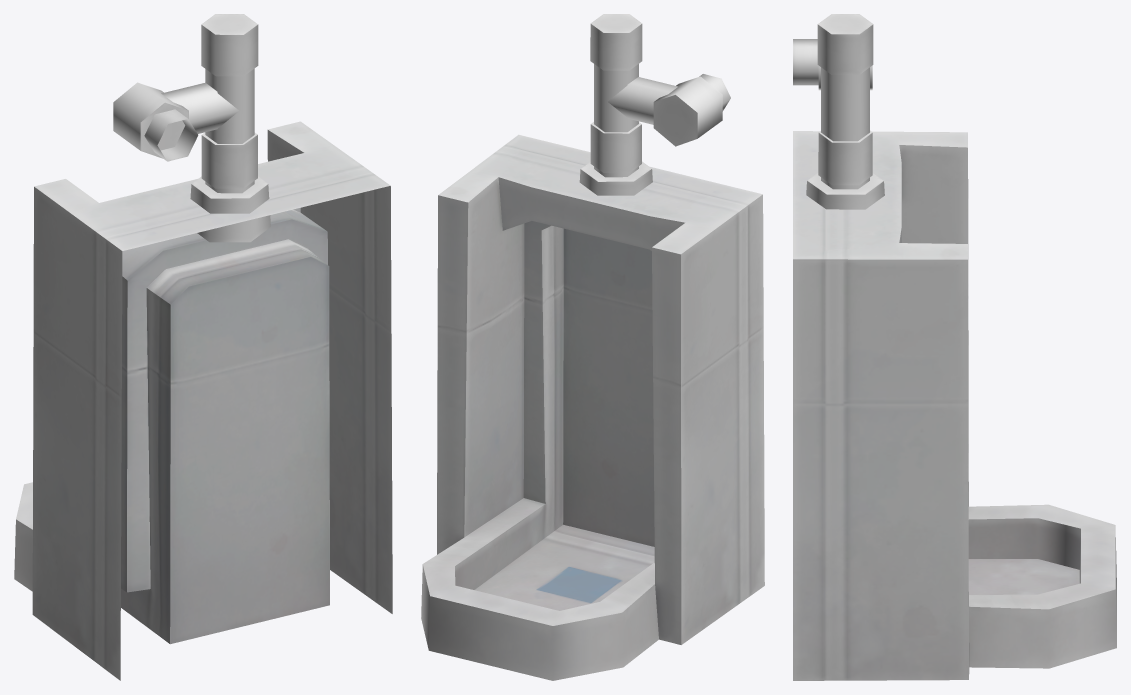
File: Pfb_Indoors_WC__5.fbx
The picture shows the model from 3 angles, left to right: view 1: azimuth 30°, elevation 25°; view 2: azimuth 150°, elevation 25°; view 3: azimuth 270°, elevation 25°; orthographic projection. The views are drawn at different scales.
Parts seen in each view (by area): view 1: Mat_Indoors_WC_01; view 2: Mat_Indoors_WC_01; view 3: Mat_Indoors_WC_01.
Boxes of the visible parts, bbox=[...] form: Mat_Indoors_WC_01: bbox=[14, 14, 392, 680]; Mat_Indoors_WC_01: bbox=[421, 14, 764, 680]; Mat_Indoors_WC_01: bbox=[793, 14, 1116, 680].
Bounding box in the file's own units: 0.8158 × 1.73 × 0.8578.
1 material, 1 textured.
